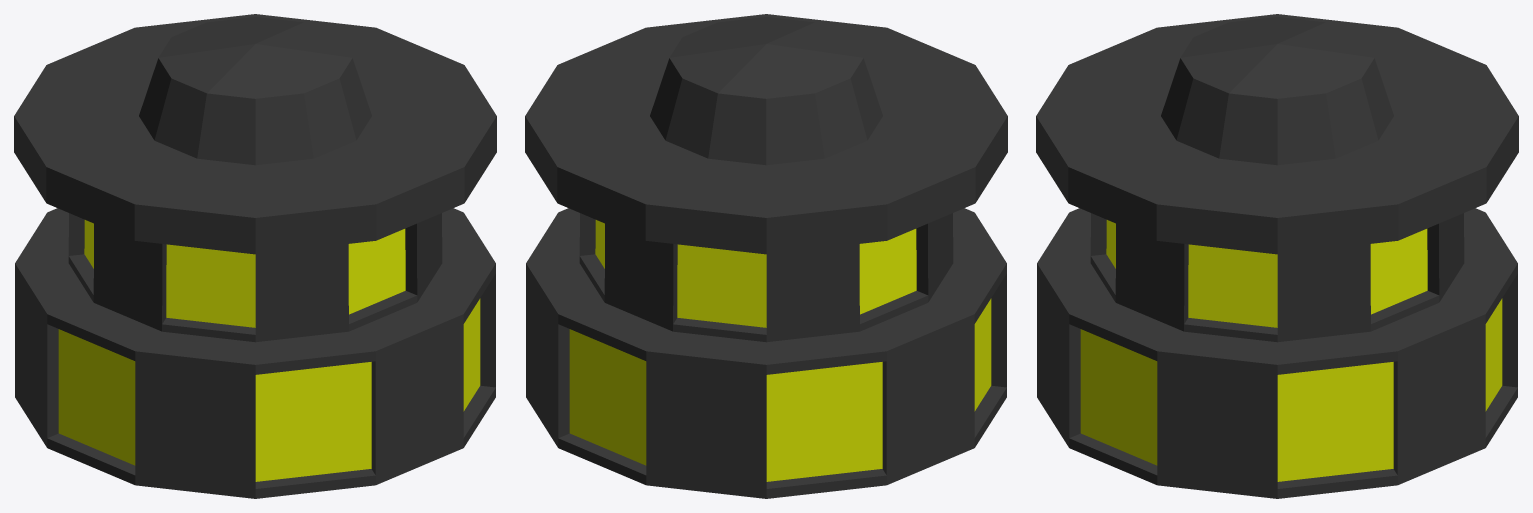
The model's file is Gravity Rotater.FBX.
3 renders of one model, left to right at view 1: azimuth 30°, elevation 25°; view 2: azimuth 150°, elevation 25°; view 3: azimuth 270°, elevation 25°, orthographic.
Visible parts, largest first — view 1: Object001, NGon002; view 2: Object001, NGon002; view 3: Object001, NGon002.
Part boxes in pixels (box(x1,y1,x2,y2)): Object001: box(14, 14, 496, 342); NGon002: box(15, 208, 495, 498); Object001: box(525, 14, 1007, 342); NGon002: box(526, 208, 1006, 498); Object001: box(1036, 14, 1518, 342); NGon002: box(1037, 208, 1517, 498).
Bounding box in the file's own units: 29.6 × 23.91 × 29.6.
